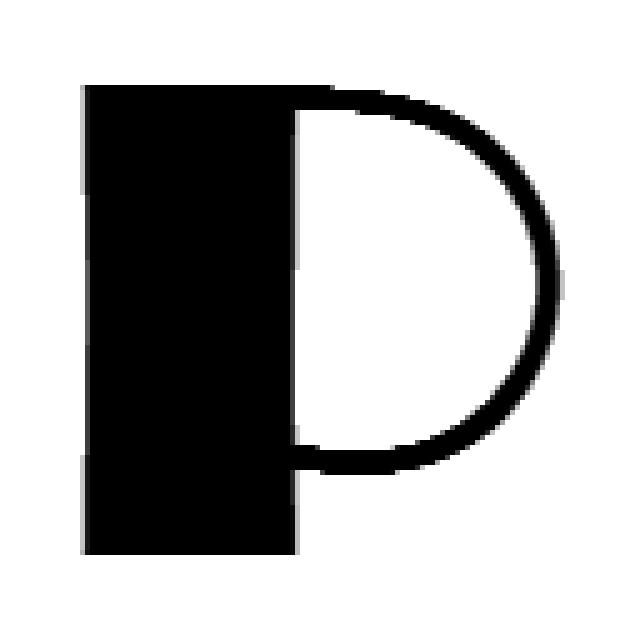P: (85, 85, 560, 555)
